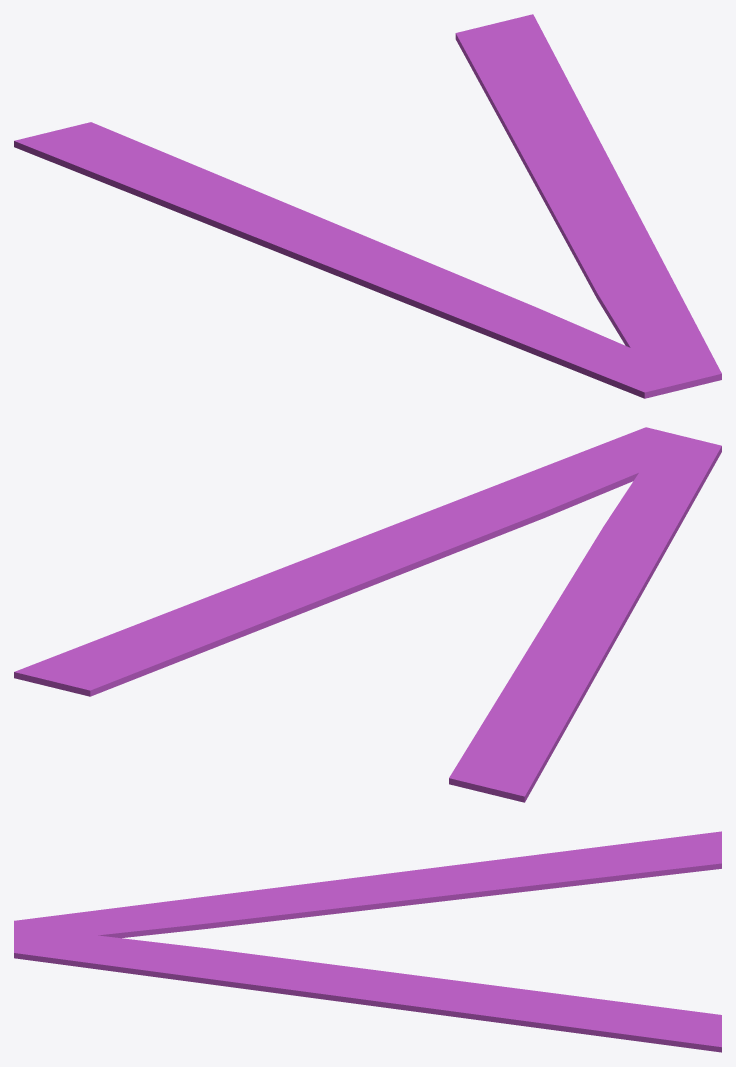
Rendered from IMU_61.gltf.
3 views of the same model, one above another, from view 1: azimuth 30°, elevation 25°; view 2: azimuth 150°, elevation 25°; view 3: azimuth 270°, elevation 25° (orthographic). The views are drawn at different scales.
Visible parts, largest first — view 1: mesh8145, mesh8138, mesh8143; view 2: mesh8145, mesh8143, mesh8138, mesh8142; view 3: mesh8145, mesh8147, mesh8140, mesh8141.
Part boxes in pixels (bbox=[...]): mesh8145: bbox=[14, 14, 721, 392]; mesh8138: bbox=[14, 141, 644, 398]; mesh8143: bbox=[455, 33, 596, 298]; mesh8145: bbox=[14, 427, 721, 796]; mesh8143: bbox=[90, 512, 544, 696]; mesh8138: bbox=[524, 446, 721, 802]; mesh8142: bbox=[544, 473, 638, 517]; mesh8145: bbox=[14, 831, 721, 1047]; mesh8147: bbox=[14, 953, 721, 1052]; mesh8140: bbox=[208, 863, 721, 928]; mesh8141: bbox=[98, 923, 208, 938].
Bounding box in the file's own units: 0.000866 × 1e-05 × 0.0012.
